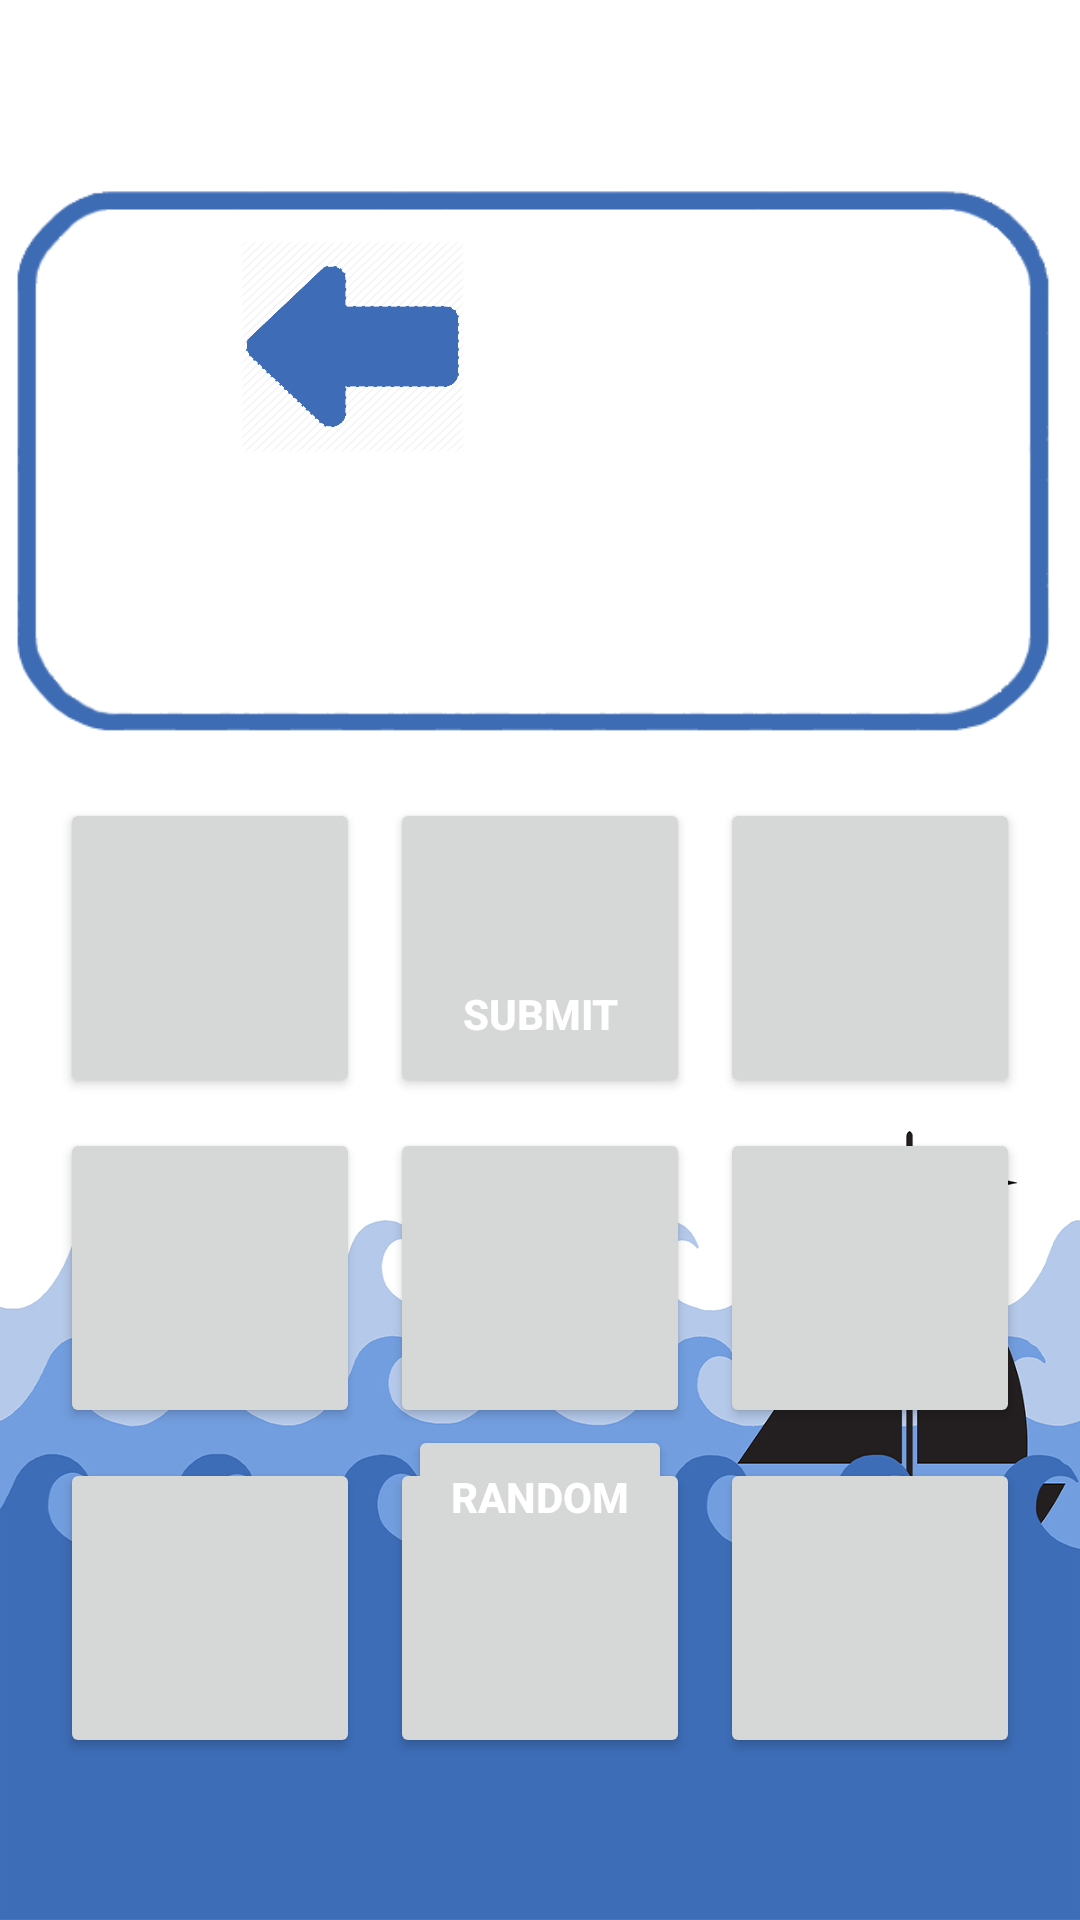

Icons on this 1080x1920 Android screen, each with its box as (x1, y1, x2, y2):
left arrow: (246, 266, 459, 427)
